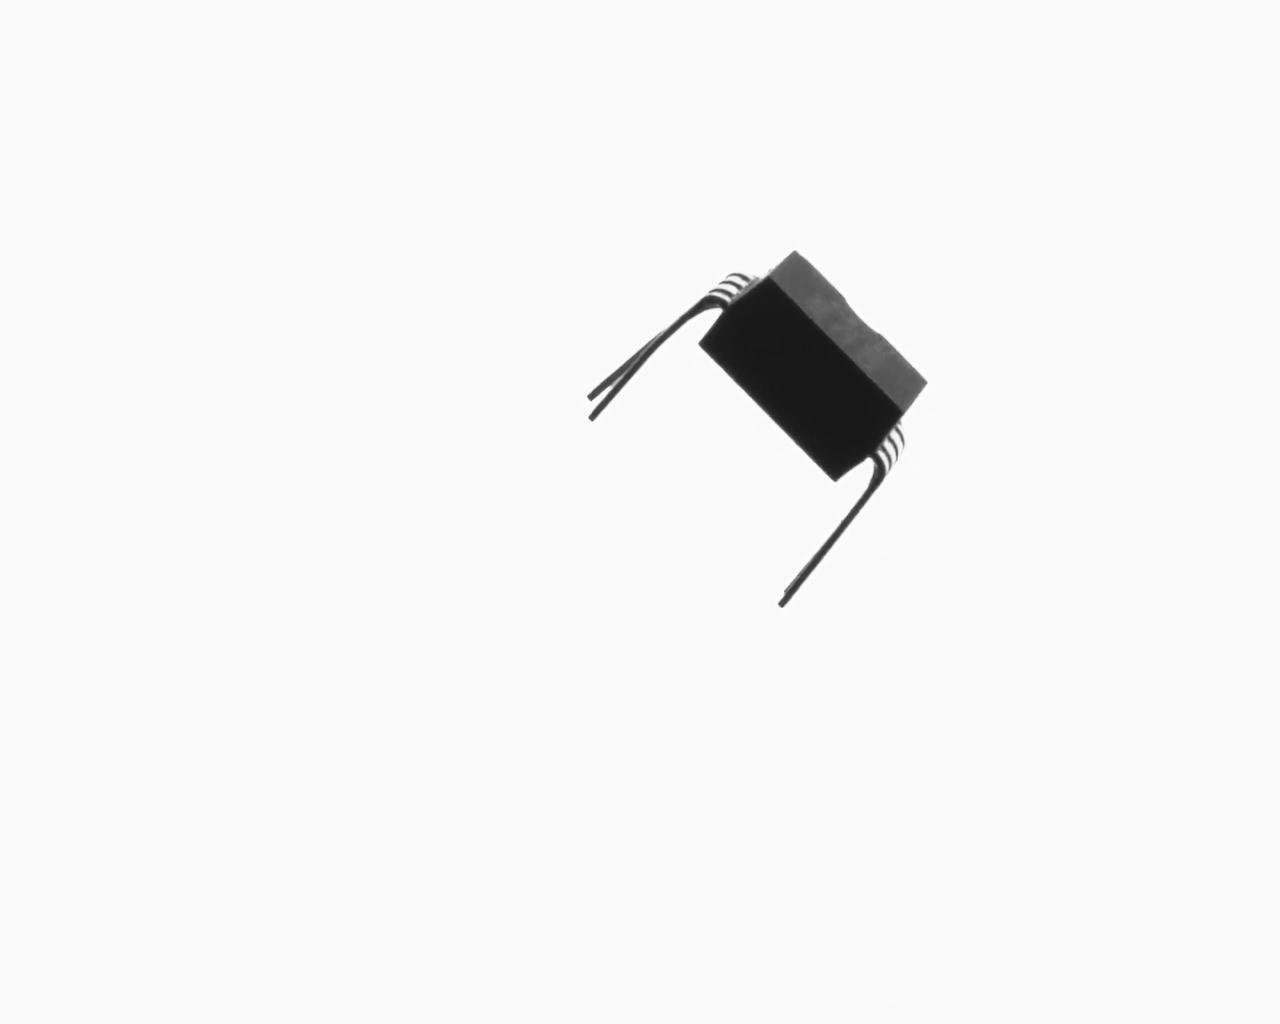Leg: (739, 451, 911, 608), (579, 263, 724, 425)
